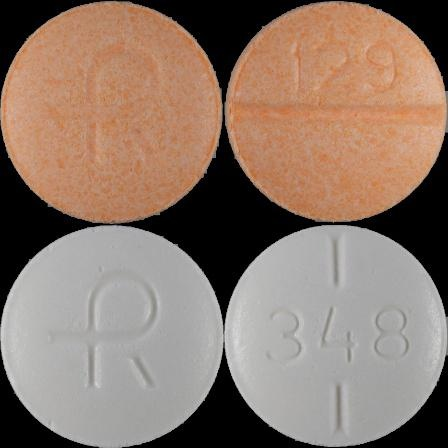0228-2129: (0, 0, 224, 224)
